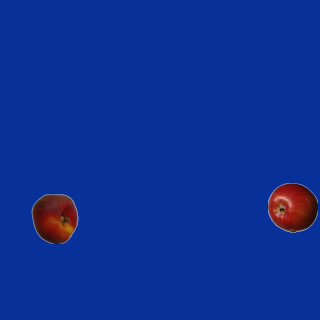Apple Braeburn: (267, 182, 317, 232)
Nectarine Flat: (29, 193, 79, 243)
